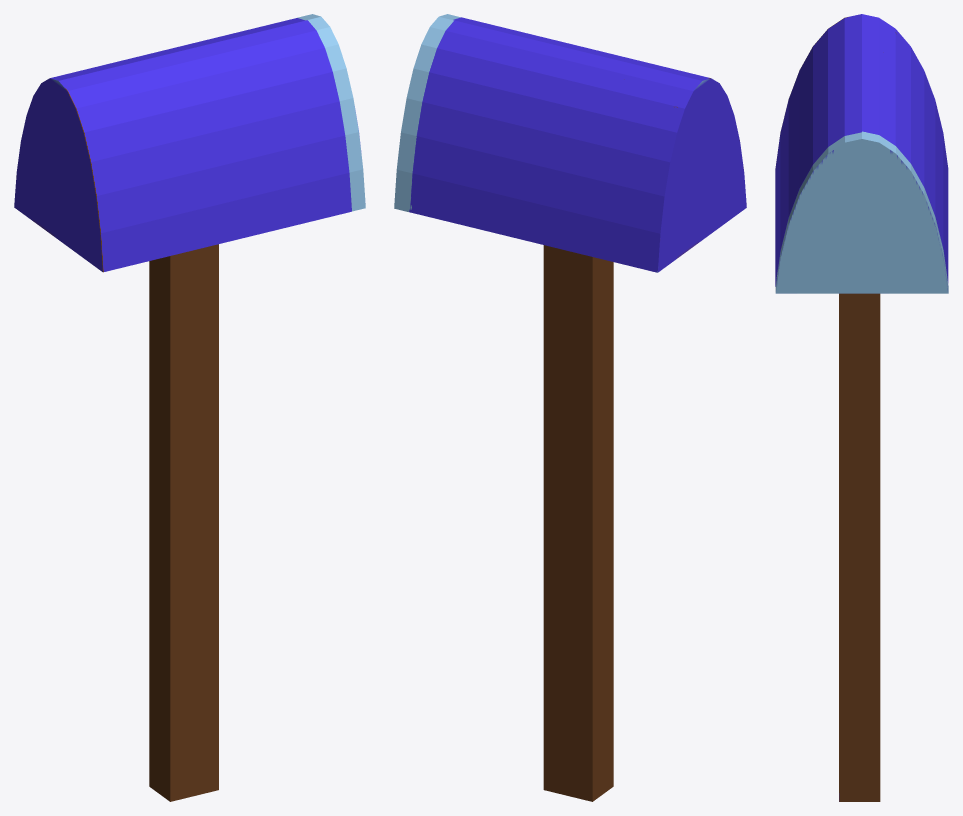
File: Buzon.obj
The picture shows the model from 3 angles, left to right: view 1: azimuth 30°, elevation 25°; view 2: azimuth 150°, elevation 25°; view 3: azimuth 270°, elevation 25°; orthographic projection. The views are drawn at different scales.
Visible parts, largest first — view 1: Cube.023_Cube.024; view 2: Cube.023_Cube.024; view 3: Cube.023_Cube.024.
Part boxes in pixels (x1,y1,x2,y2): Cube.023_Cube.024: (14, 14, 365, 801); Cube.023_Cube.024: (394, 14, 746, 801); Cube.023_Cube.024: (775, 14, 948, 801).
Bounding box in the file's own units: 7.93 × 21.23 × 4.64.
1 material, 1 textured.
